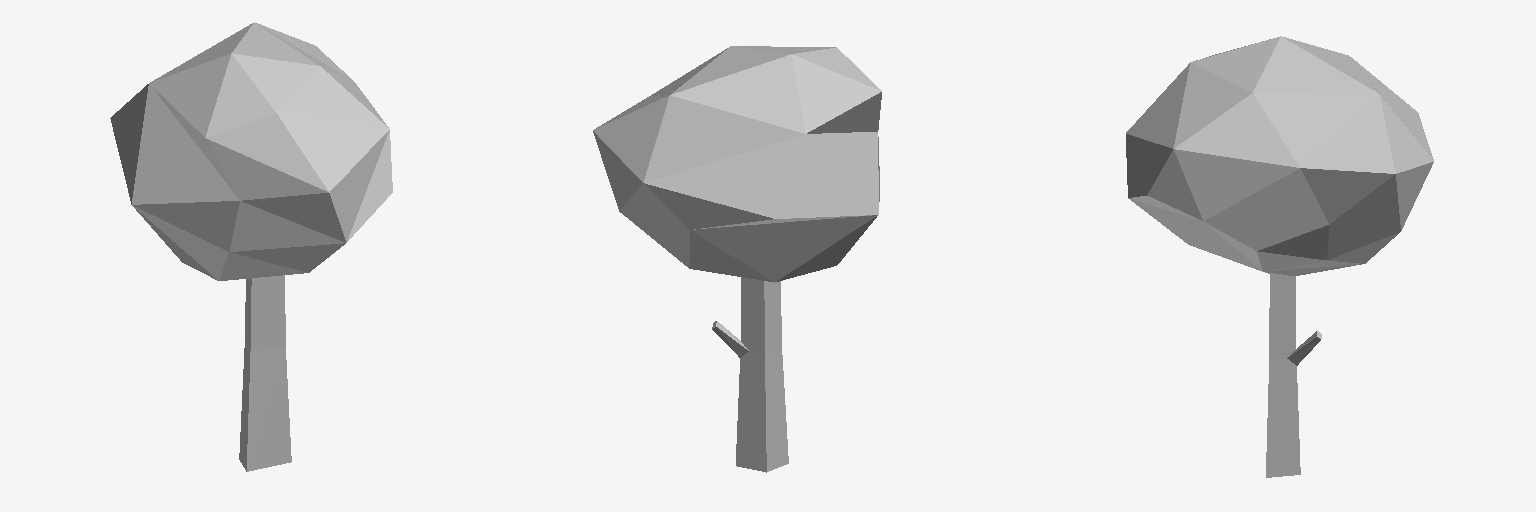
The model's file is tree.obj.
3 renders of one model, left to right at view 1: azimuth 30°, elevation 25°; view 2: azimuth 150°, elevation 25°; view 3: azimuth 270°, elevation 25°, orthographic.
Visible parts, largest first — view 1: 001_Crown, 000_Trunk; view 2: 001_Crown, 000_Trunk; view 3: 001_Crown, 000_Trunk.
Boxes of the visible parts, box(x1,y1,x2,y2) form: 001_Crown: box(110, 22, 392, 280); 000_Trunk: box(239, 275, 291, 471); 001_Crown: box(593, 46, 881, 282); 000_Trunk: box(712, 277, 788, 472); 001_Crown: box(1126, 36, 1433, 275); 000_Trunk: box(1266, 274, 1321, 477).
Size of the model in its own units: 74.16 by 125 by 84.32.